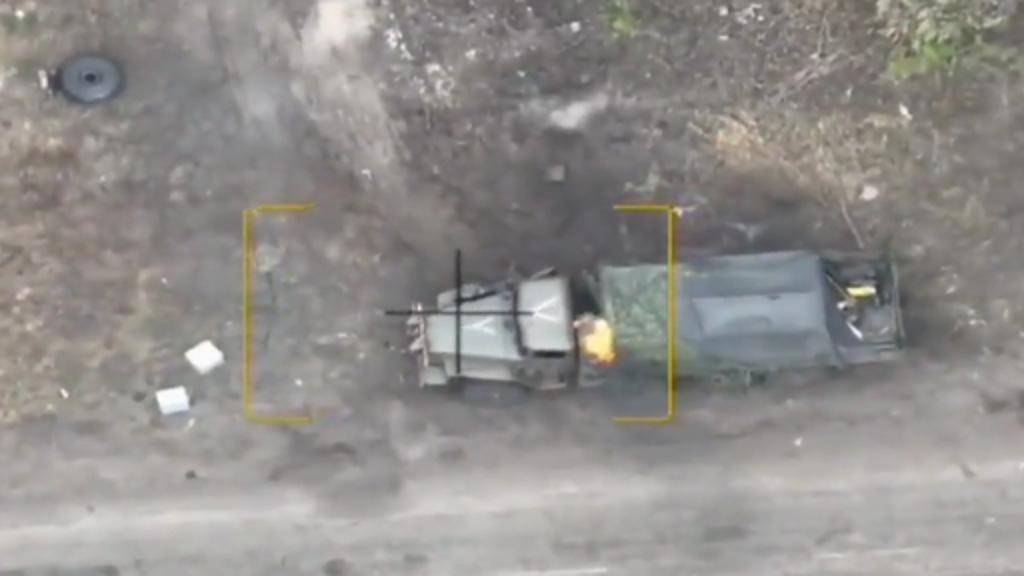TRUCK: (390, 240, 910, 400)
